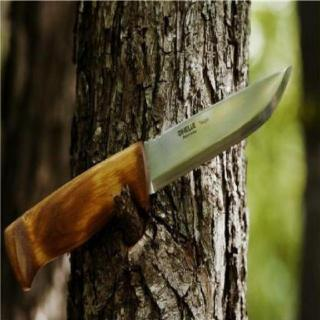knife: (131, 63, 295, 205)
